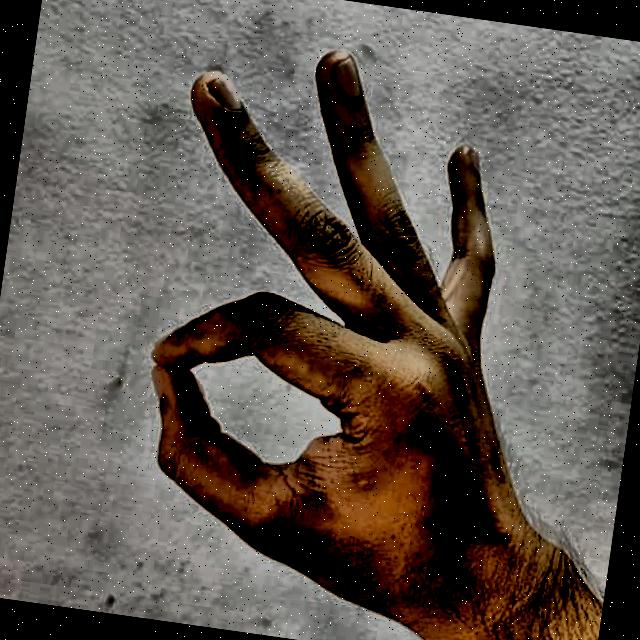Ca: (63, 0, 624, 640)
